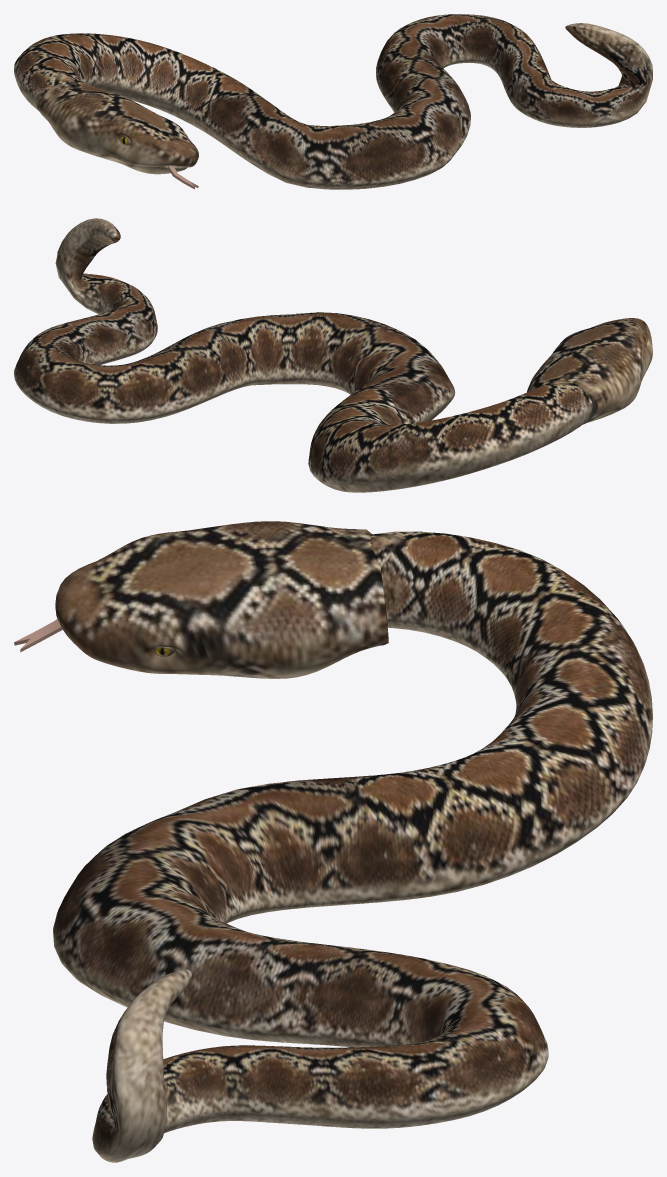
The model's file is snake.glb.
3 renders of one model, top to bottom at view 1: azimuth 30°, elevation 25°; view 2: azimuth 150°, elevation 25°; view 3: azimuth 270°, elevation 25°, orthographic. The views are drawn at different scales.
Visible parts, largest first — view 1: Default; view 2: Default; view 3: Default.
Boxes of the visible parts, left/top/right/bottom form: Default: left=14, top=14, right=652, bottom=189; Default: left=14, top=218, right=652, bottom=492; Default: left=53, top=521, right=652, bottom=1162.
Size of the model in its own units: 5.51 by 1.07 by 3.05.
Materials: 2 (1 with a texture image).
